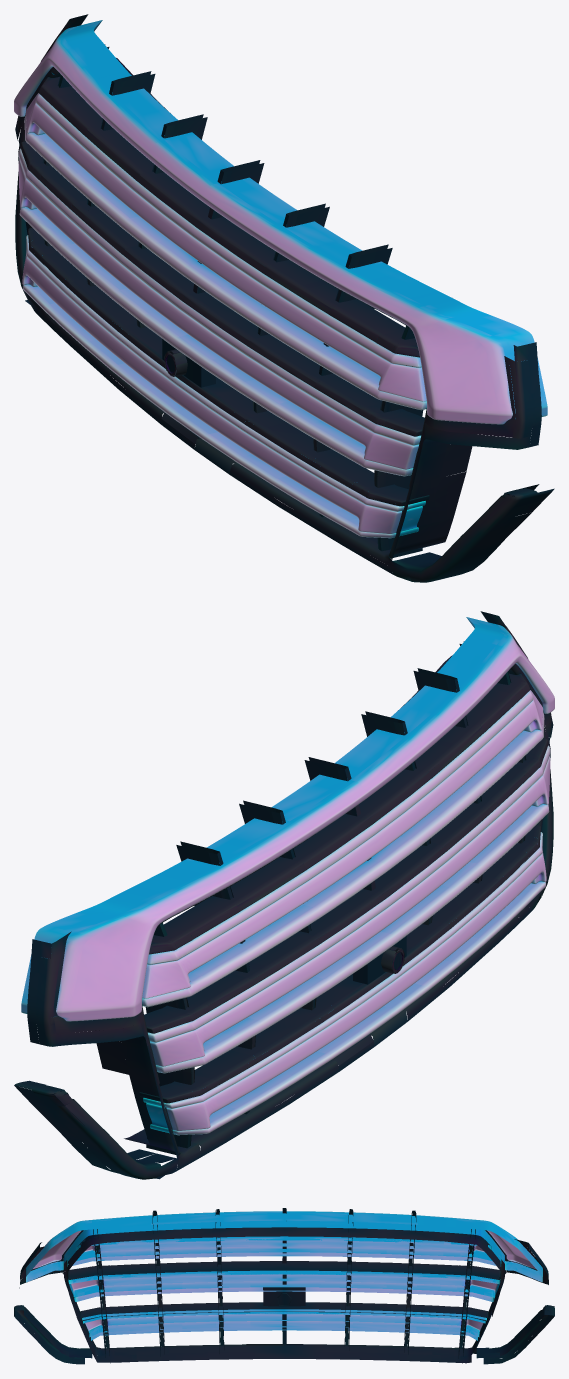
The model's file is grille.glb.
3 views of the same model, one above another, from view 1: azimuth 30°, elevation 25°; view 2: azimuth 150°, elevation 25°; view 3: azimuth 270°, elevation 25° (orthographic). The views are drawn at different scales.
Parts seen in each view (by area): view 1: chrome_2, chrome_3, black_12, black_11; view 2: chrome_2, chrome_3, black_11, black_12; view 3: chrome_2, black_12, chrome_3, black_11.
Part boxes in pixels (x1,y1,x2,y2): chrome_2: [18, 93, 426, 538]; chrome_3: [14, 20, 547, 424]; black_12: [15, 14, 554, 582]; black_11: [20, 76, 429, 506]; chrome_2: [142, 690, 550, 1135]; chrome_3: [21, 617, 554, 1021]; black_11: [139, 673, 548, 1103]; black_12: [14, 611, 553, 1179]; chrome_2: [67, 1236, 501, 1340]; black_12: [14, 1208, 554, 1364]; chrome_3: [26, 1211, 542, 1282]; black_11: [68, 1234, 500, 1321].
Bounding box in the file's own units: 0.2097 × 0.3692 × 1.22.
